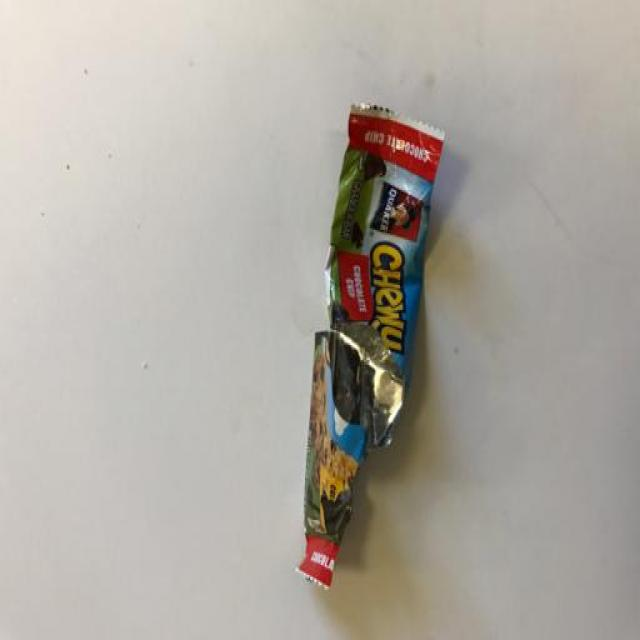plastic: (237, 89, 508, 605)
